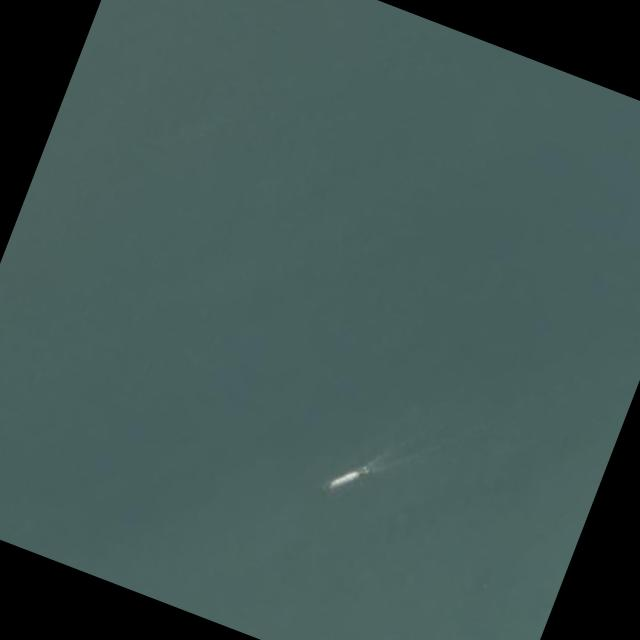ship: (318, 464, 371, 492)
